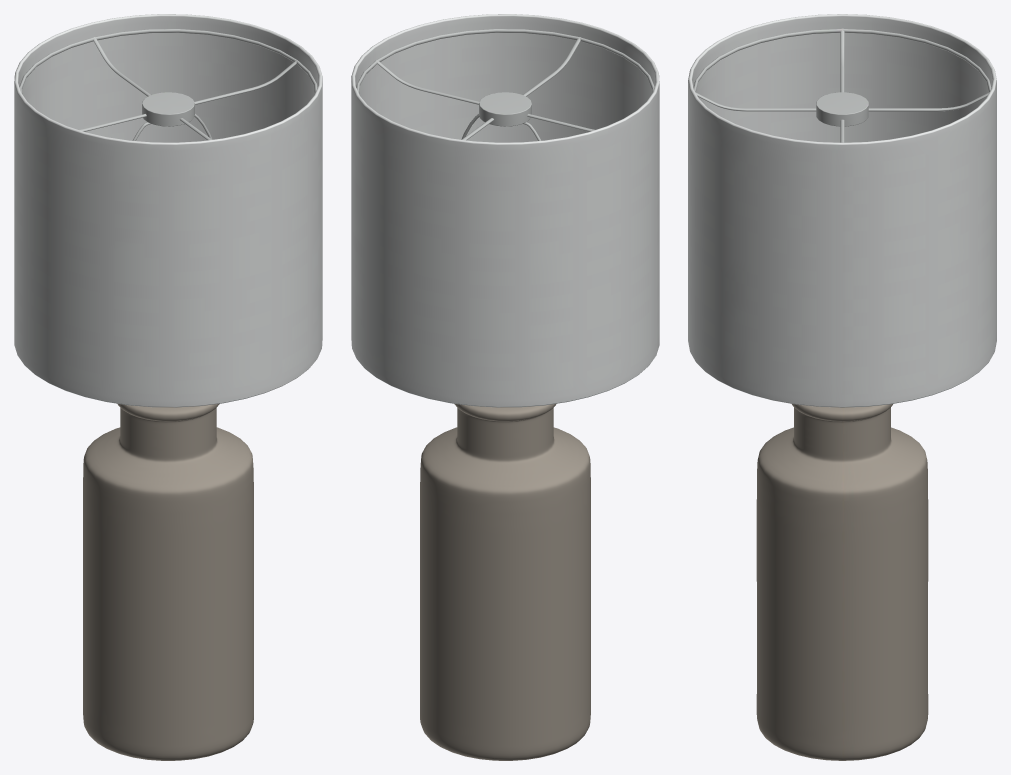
File: abo-B07MF1TQW9.glb
3 views of the same model, side by side, from view 1: azimuth 30°, elevation 25°; view 2: azimuth 150°, elevation 25°; view 3: azimuth 270°, elevation 25° (orthographic).
Bounding box in the file's own units: 0.212 × 0.493 × 0.212.
1 material, 1 textured.
